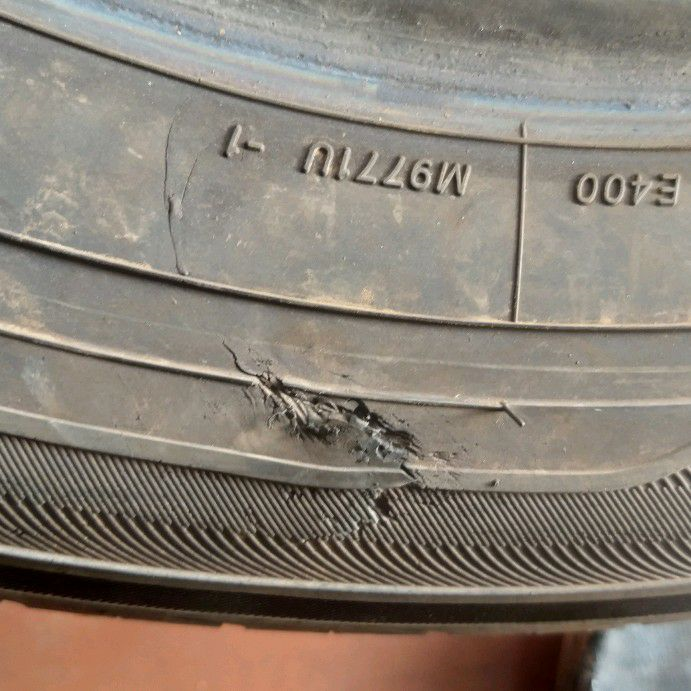cut: (219, 343, 418, 480), (159, 118, 204, 288)
